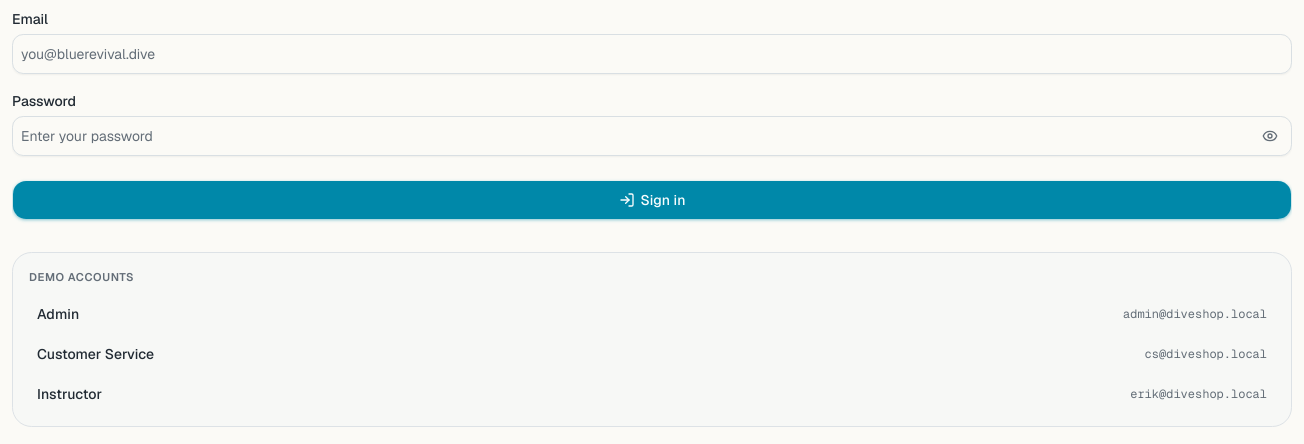
Test: signs in as the Customer Service demo account without exposing its password
This screenshot has width=1304, height=444.
Type "manually-entered-password" into the password field labelled "Password" at (652, 136), box top-left (12, 116), bottom-right (1292, 156)
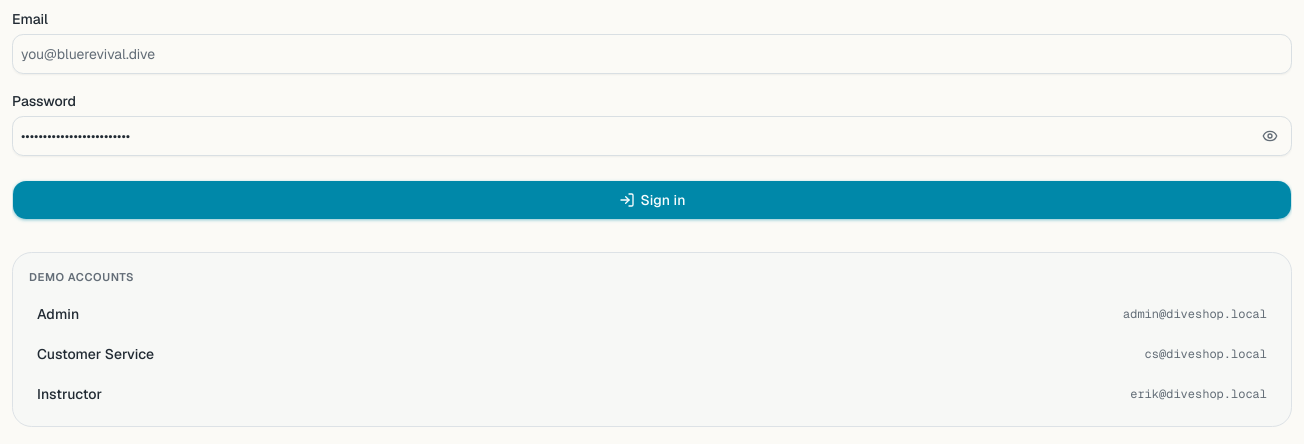
Click the button "Customer Service cs@diveshop.local" at (96, 354), box top-left (29, 338), bottom-right (1275, 370)
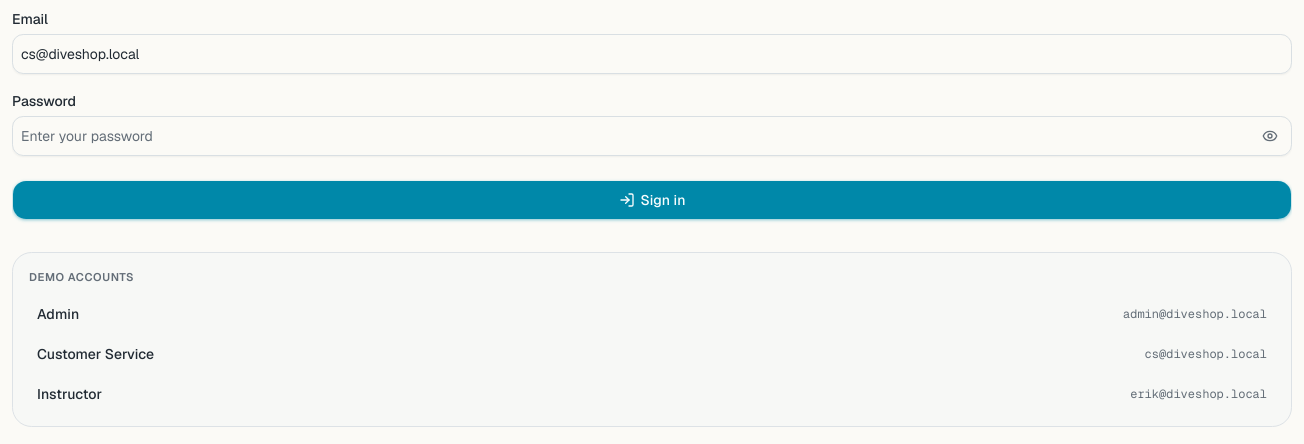
Result: the field labelled "Email" holds "cs@diveshop.local" at top-left (12, 34), bottom-right (1292, 74)
Result: the password field labelled "Password" is empty at top-left (12, 116), bottom-right (1292, 156)
